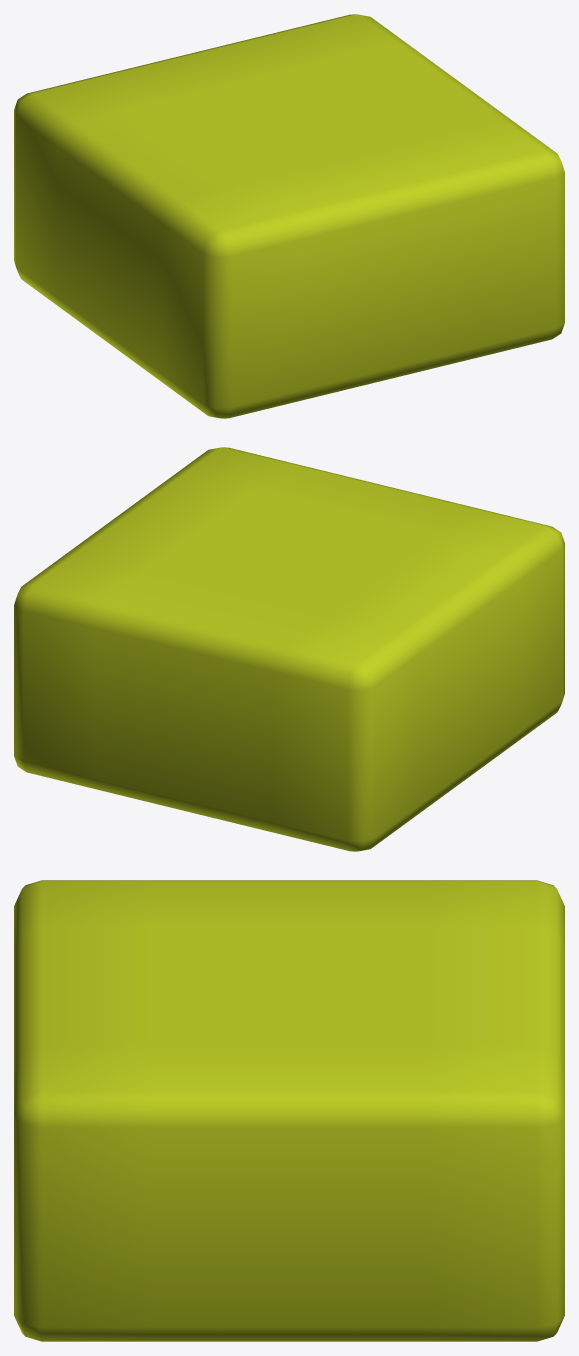
File: tetrisO.obj
3 views of the same model, one above another, from view 1: azimuth 30°, elevation 25°; view 2: azimuth 150°, elevation 25°; view 3: azimuth 270°, elevation 25° (orthographic). The views are drawn at different scales.
Parts seen in each view (by area): view 1: Cube; view 2: Cube; view 3: Cube.
Part boxes in pixels (box(x1,y1,x2,y2)): Cube: box(14, 14, 564, 418); Cube: box(14, 447, 564, 851); Cube: box(14, 880, 564, 1341).
Bounding box in the file's own units: 0.3 × 0.15 × 0.3.
